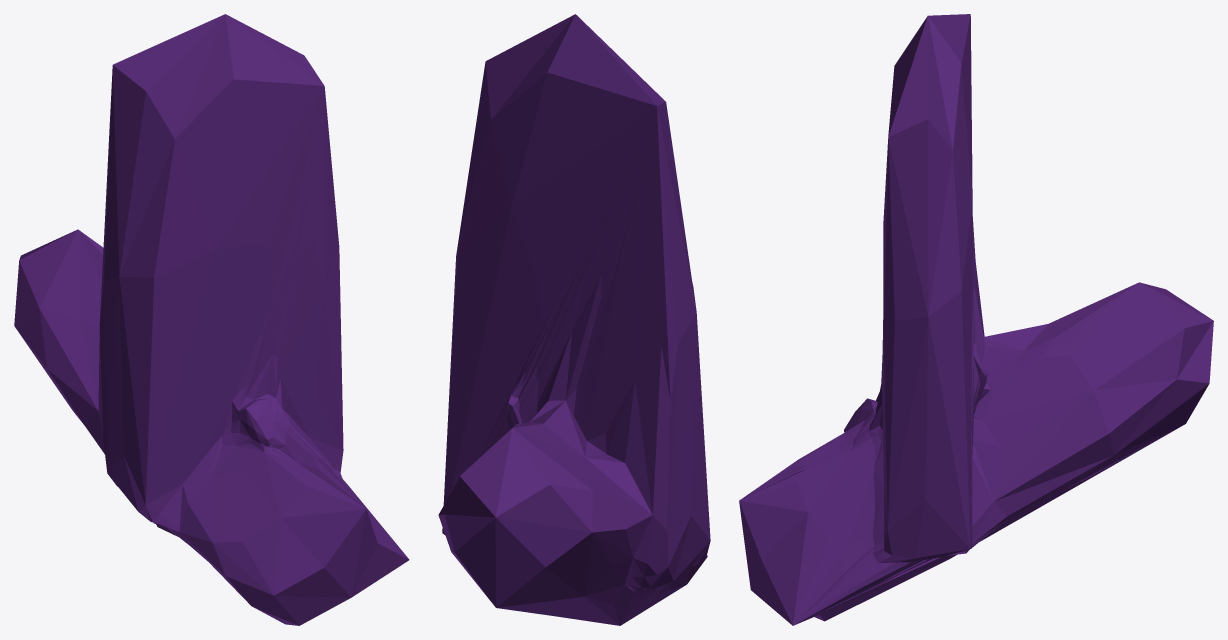
3 renders of one model, left to right at view 1: azimuth 30°, elevation 25°; view 2: azimuth 150°, elevation 25°; view 3: azimuth 270°, elevation 25°, orthographic. The views are drawn at different scales.
Visible parts, largest first — view 1: 218_Cube.896; view 2: 218_Cube.896; view 3: 218_Cube.896.
Boxes of the visible parts, x1,y1,x2,y2 form: 218_Cube.896: (14, 14, 409, 625); 218_Cube.896: (438, 14, 710, 625); 218_Cube.896: (739, 14, 1213, 625).
Bounding box in the file's own units: 6.16 × 14.61 × 10.47.
